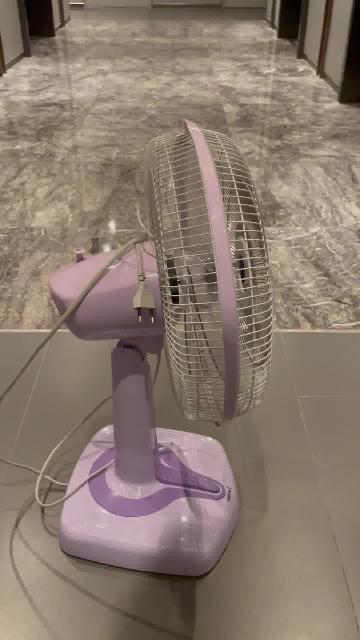Fan: (49, 120, 273, 580)
